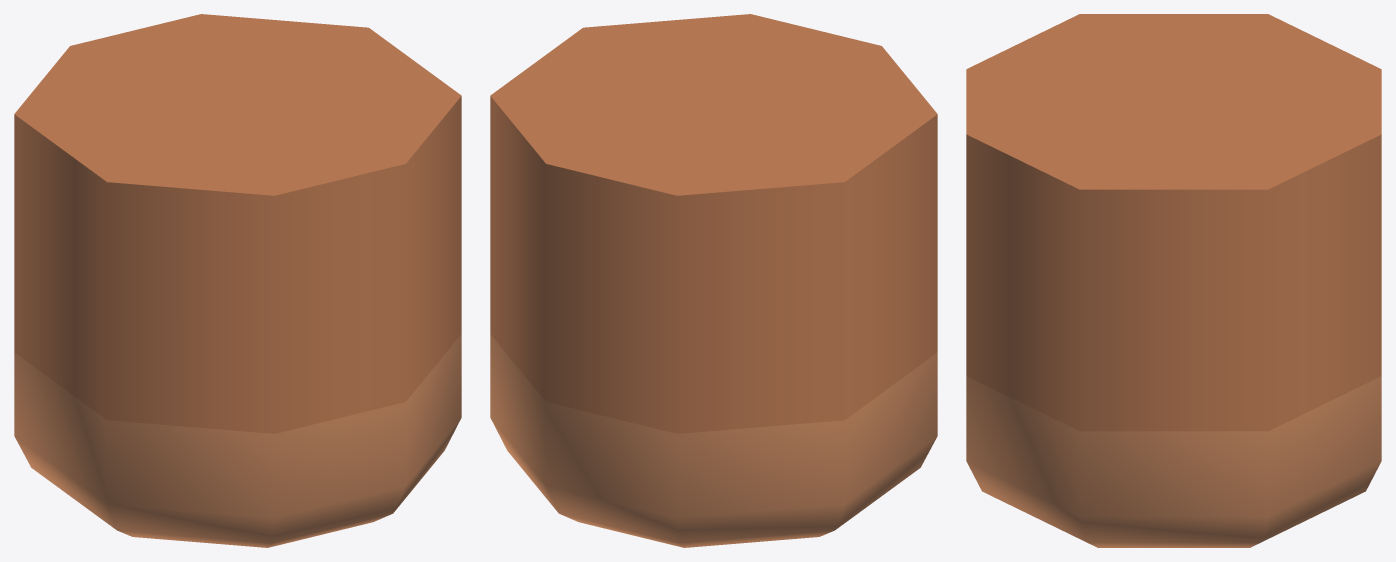
The model's file is 03_one_botton.glb.
3 renders of one model, left to right at view 1: azimuth 30°, elevation 25°; view 2: azimuth 150°, elevation 25°; view 3: azimuth 270°, elevation 25°, orthographic.
Parts seen in each view (by area): view 1: 03_one_botton; view 2: 03_one_botton; view 3: 03_one_botton.
Boxes of the visible parts, bbox=[...] form: 03_one_botton: bbox=[14, 14, 461, 547]; 03_one_botton: bbox=[490, 14, 937, 547]; 03_one_botton: bbox=[966, 14, 1381, 547].
Size of the model in its own units: 0.5 by 0.4983 by 0.4998.
